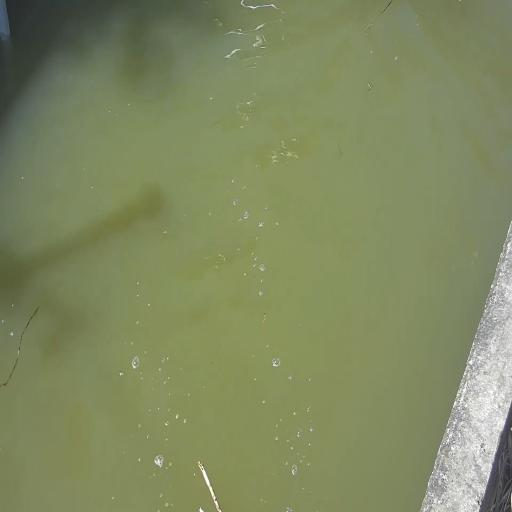twig: (192, 454, 230, 512)
